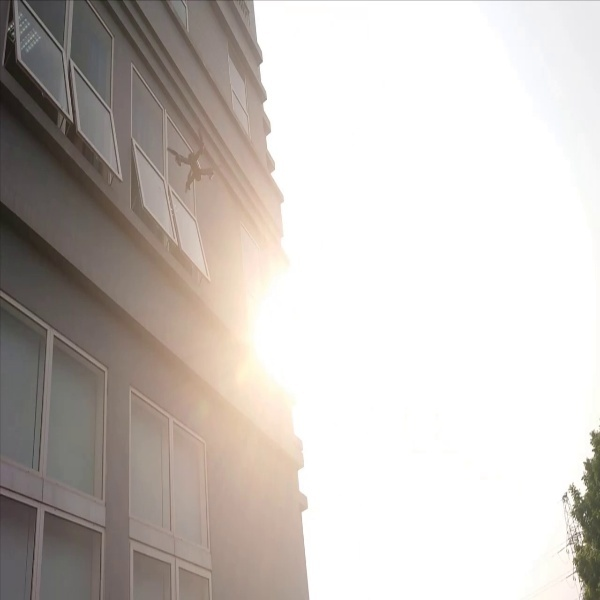drone: (159, 131, 221, 199)
